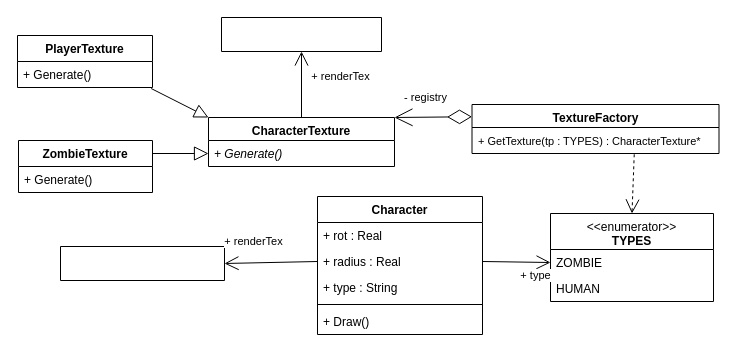
This 737x355 diagram has some shape labels left out. The shapes that lost their labels are listed below. From the top down, each one's centre as x and y in pixels, then its label:
(x=301, y=34): <<raylib.h>> RenderTexture2D
(x=142, y=263): <<raylib.h>> Vector2
